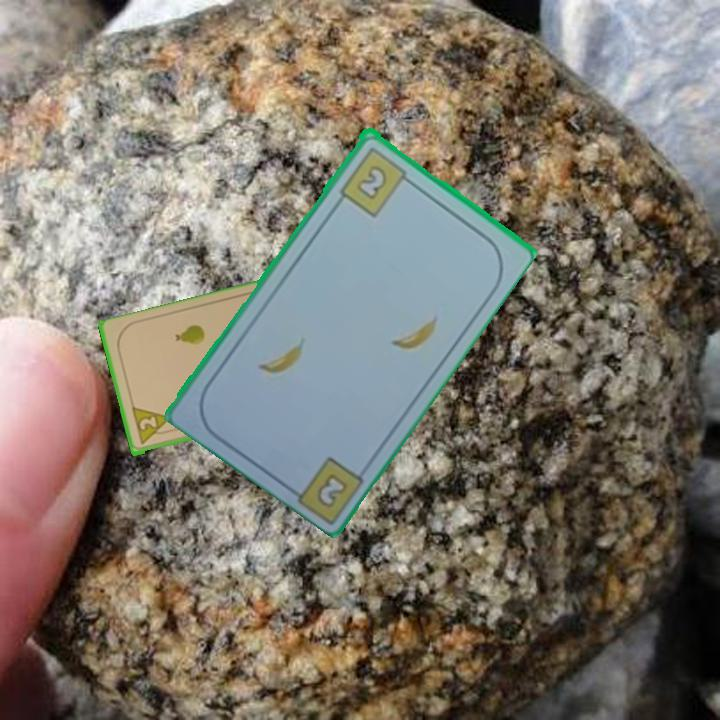2b: (336, 142, 416, 219), (312, 469, 351, 511)
2p: (128, 404, 175, 448)
